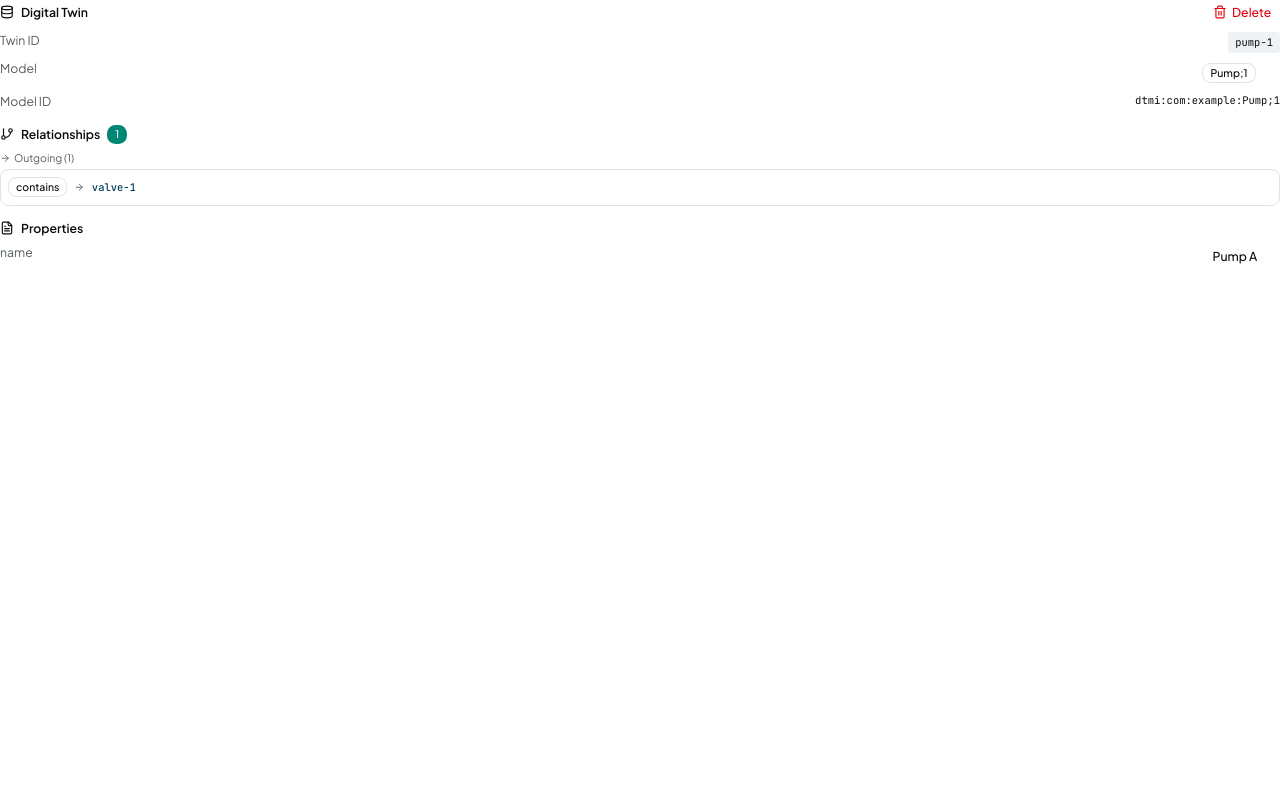
it: TwinInspector — delete twin › uses the singular form for a single relationship
Expected: the button "valve-1" is shown, [92,180,136,194]
Step 1. Click the button with aria-label "Delete twin" → (1242, 12), box [1204,0,1279,24]
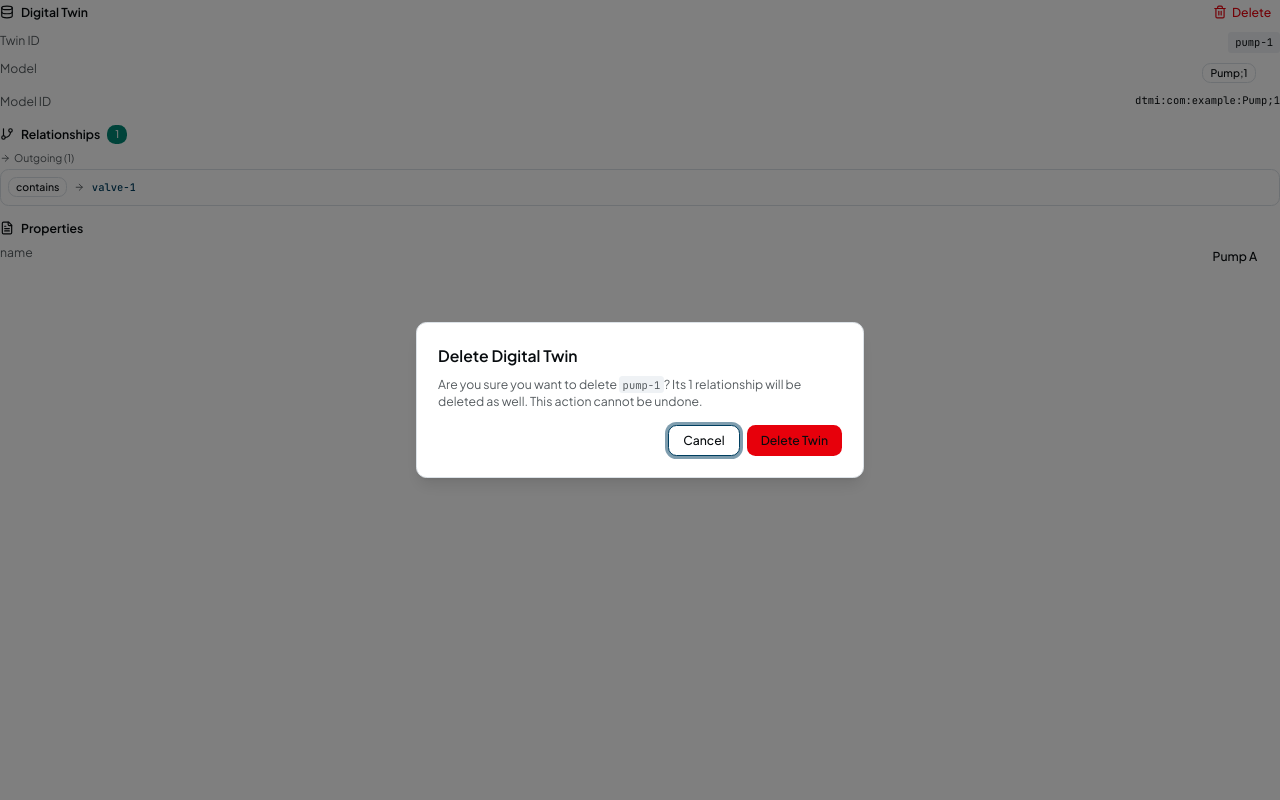
Result: the dialog "Delete Digital Twin" shows "its 1 relationship will be deleted" at [416,322,864,478]
